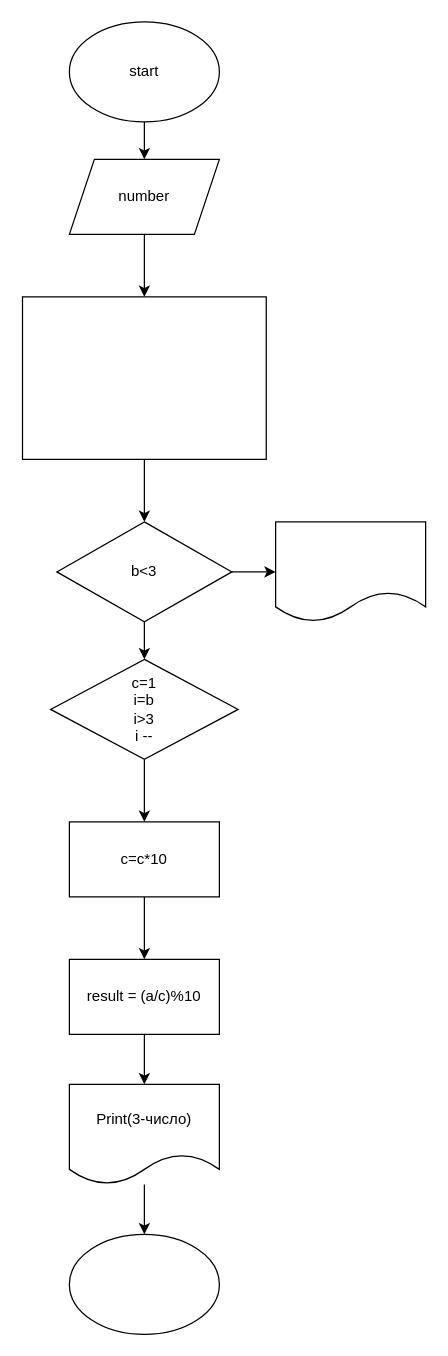
Image size: 448x1356. Some labels were removed from this diagram. Here are the shapes that lost their labels. From the top down, the box of each, then its label:
(21, 296, 266, 459): count =number.ToString.length MareArray(number,count) number=a count =b
(274, 521, 426, 622): Print(Третьей цифры нет:0)
(68, 1233, 219, 1334): end
